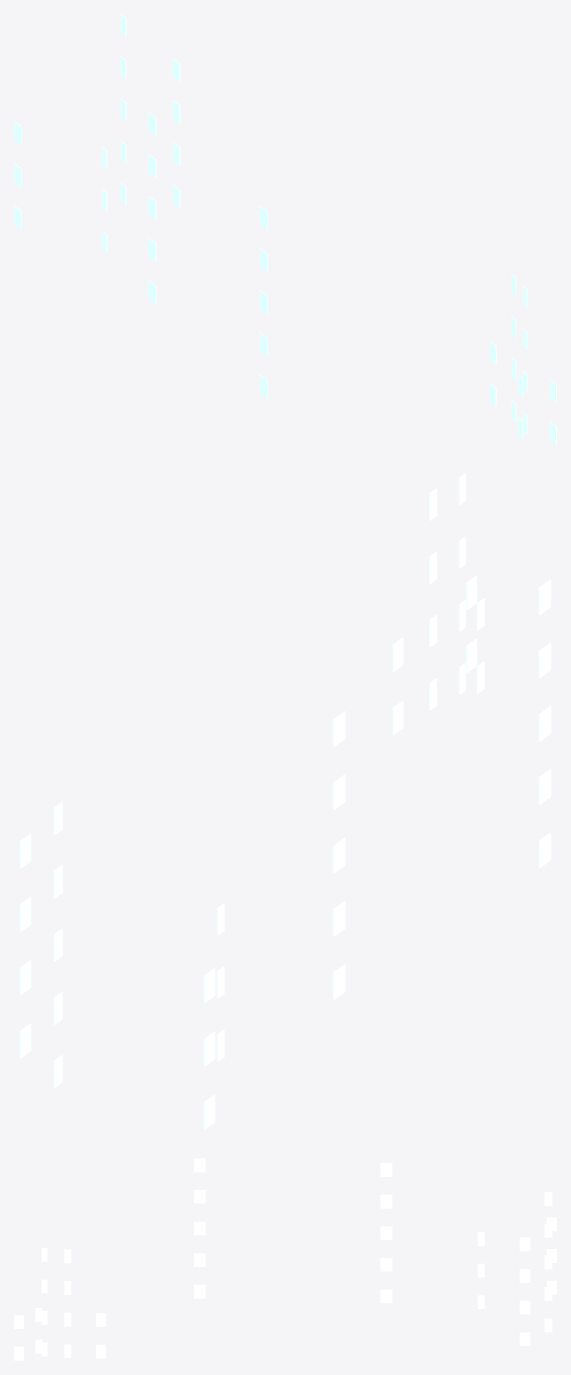
The model's file is SpireWindowsW.fbx.
The picture shows the model from 3 angles, top to bottom: view 1: azimuth 30°, elevation 25°; view 2: azimuth 150°, elevation 25°; view 3: azimuth 270°, elevation 25°; orthographic projection. The views are drawn at different scales.
Parts seen in each view (by area): view 1: WindowW0_12.001; view 2: WindowW0_12.001; view 3: WindowW0_12.001.
Part boxes in pixels (box(x1,y1,x2,y2)): WindowW0_12.001: box(14, 14, 556, 444); WindowW0_12.001: box(19, 473, 551, 1129); WindowW0_12.001: box(14, 1158, 556, 1360).
Size of the model in its own units: 6304 by 6200 by 21787.
